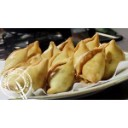samosa: (2, 57, 49, 94), (5, 39, 43, 70), (76, 45, 106, 81), (48, 58, 78, 92), (105, 39, 126, 75), (43, 40, 76, 60)
